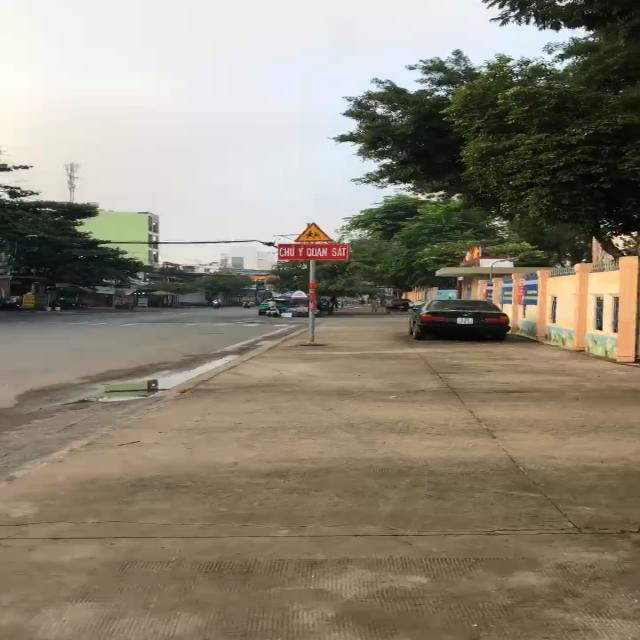Bien bao tre em: (292, 221, 338, 243)
